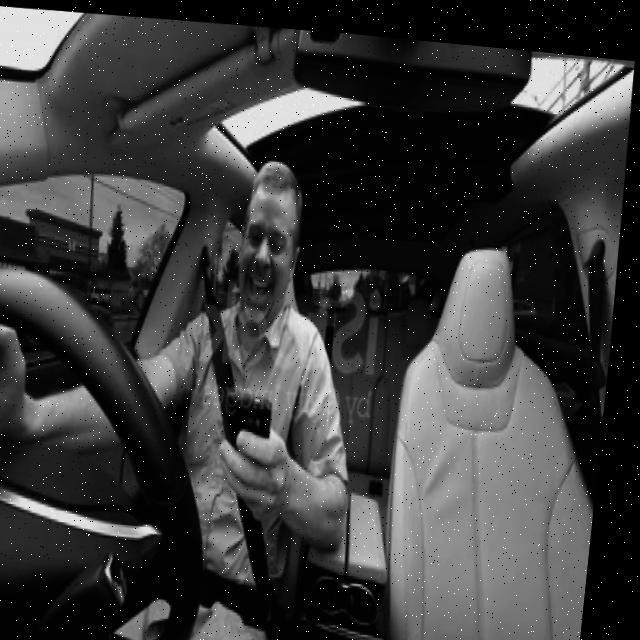PhoneCall: (228, 388, 283, 478)
